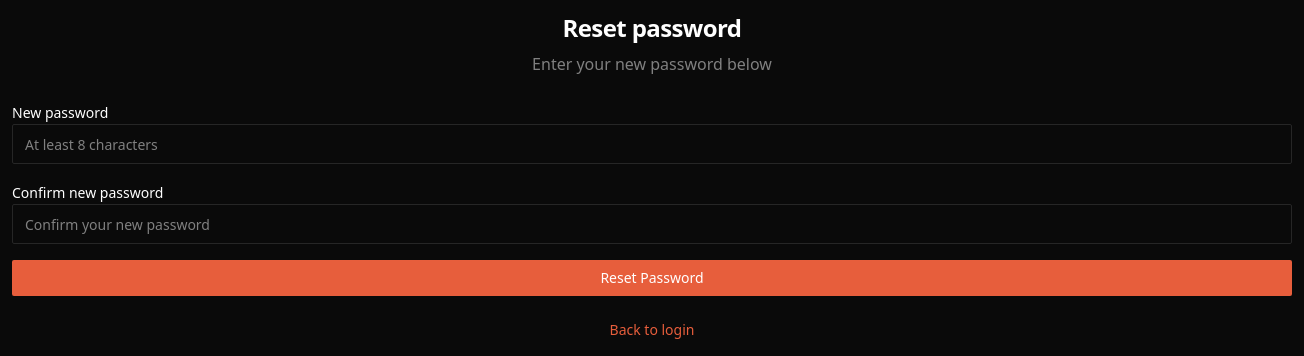
Test: ResetPasswordPage › disables form while submitting
This screenshot has width=1304, height=356.
In the password field labelled "New password": point(652, 144) x1=12 y1=124 x2=1292 y2=164, type "newpassword123"
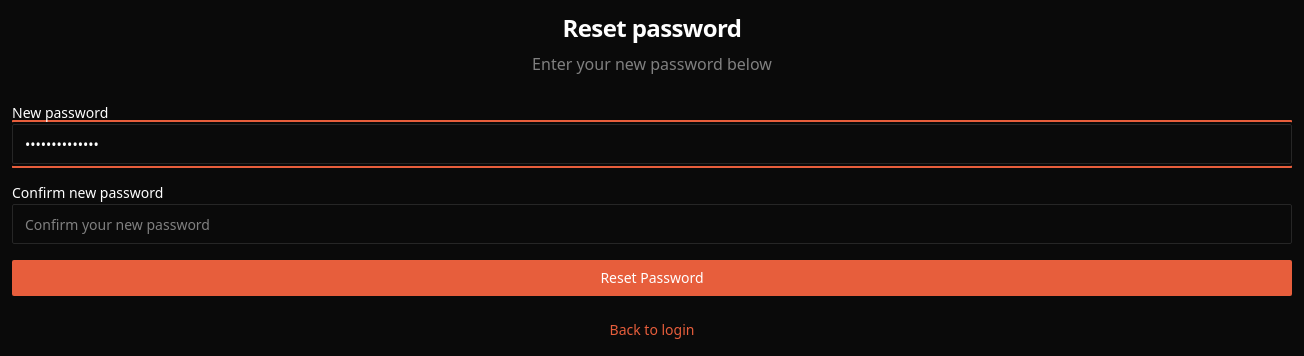
In the password field labelled "Confirm new password": point(652, 224) x1=12 y1=204 x2=1292 y2=244, type "newpassword123"
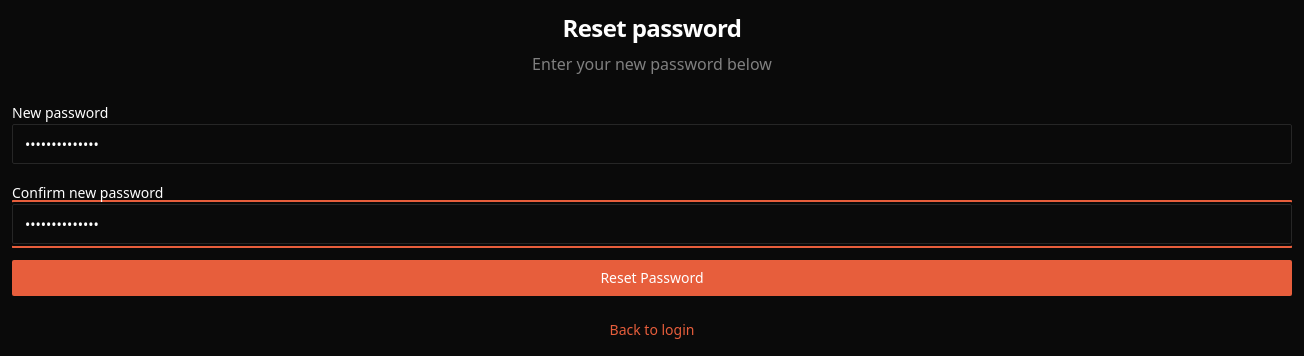
Click the button "Reset Password": point(652, 278) x1=12 y1=260 x2=1292 y2=296
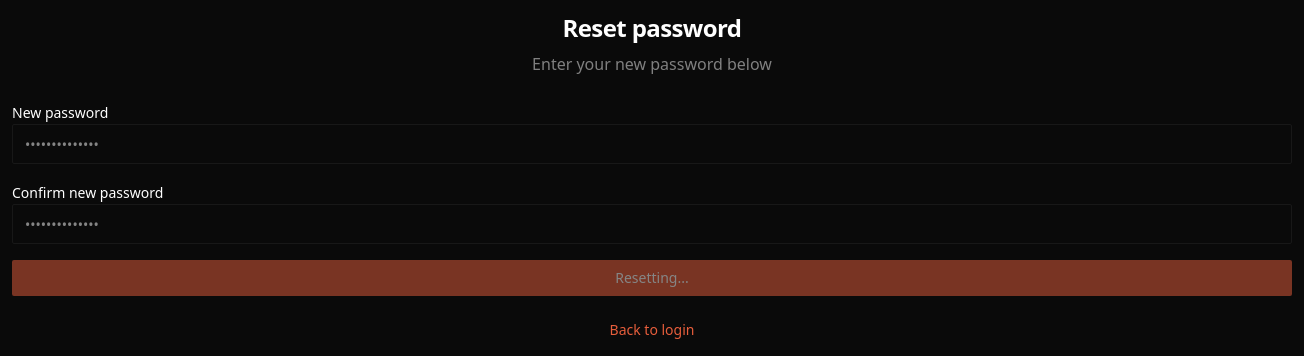
expect the button "Resetting..." is disabled: met, box x1=12 y1=260 x2=1292 y2=296
